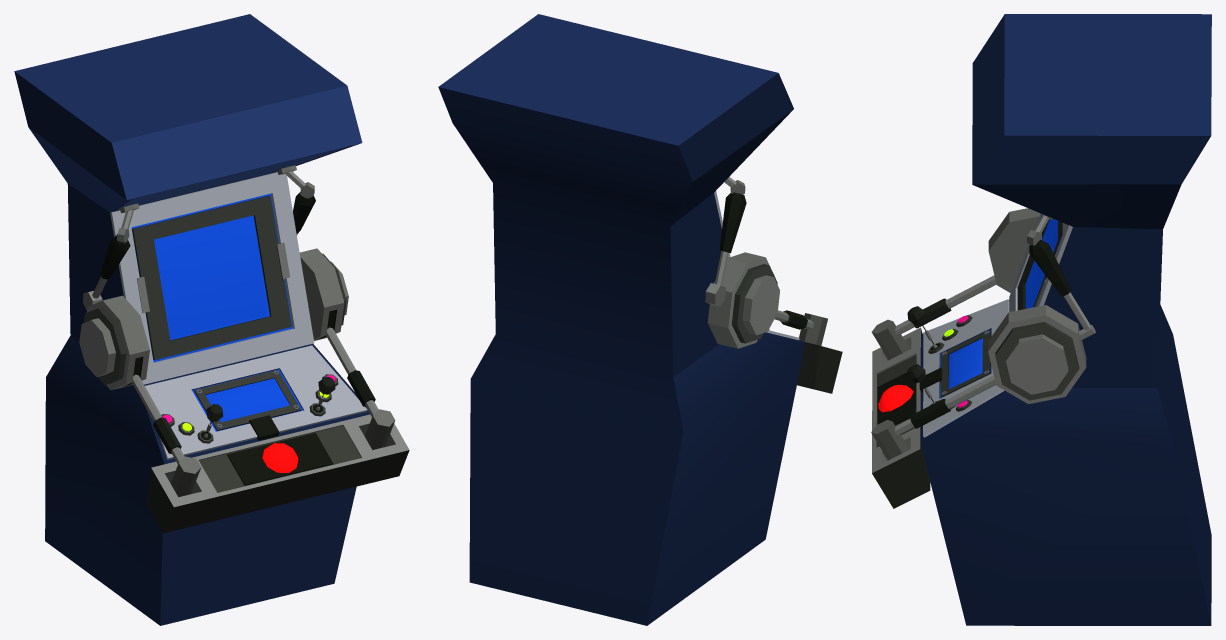
Rendered from Arcade_Machine_Blue.glb.
The picture shows the model from 3 angles, left to right: view 1: azimuth 30°, elevation 25°; view 2: azimuth 150°, elevation 25°; view 3: azimuth 270°, elevation 25°; orthographic projection. The views are drawn at different scales.
Visible parts, largest first — view 1: ArcadeMachine_Blue; view 2: ArcadeMachine_Blue; view 3: ArcadeMachine_Blue.
Part boxes in pixels (box(x1,y1,x2,y2)): ArcadeMachine_Blue: box(14, 14, 409, 625); ArcadeMachine_Blue: box(438, 14, 842, 625); ArcadeMachine_Blue: box(871, 14, 1211, 625).
Size of what is drawn, in the model's own units: 1.39 by 2.63 by 1.61.
1 material, 1 textured.
